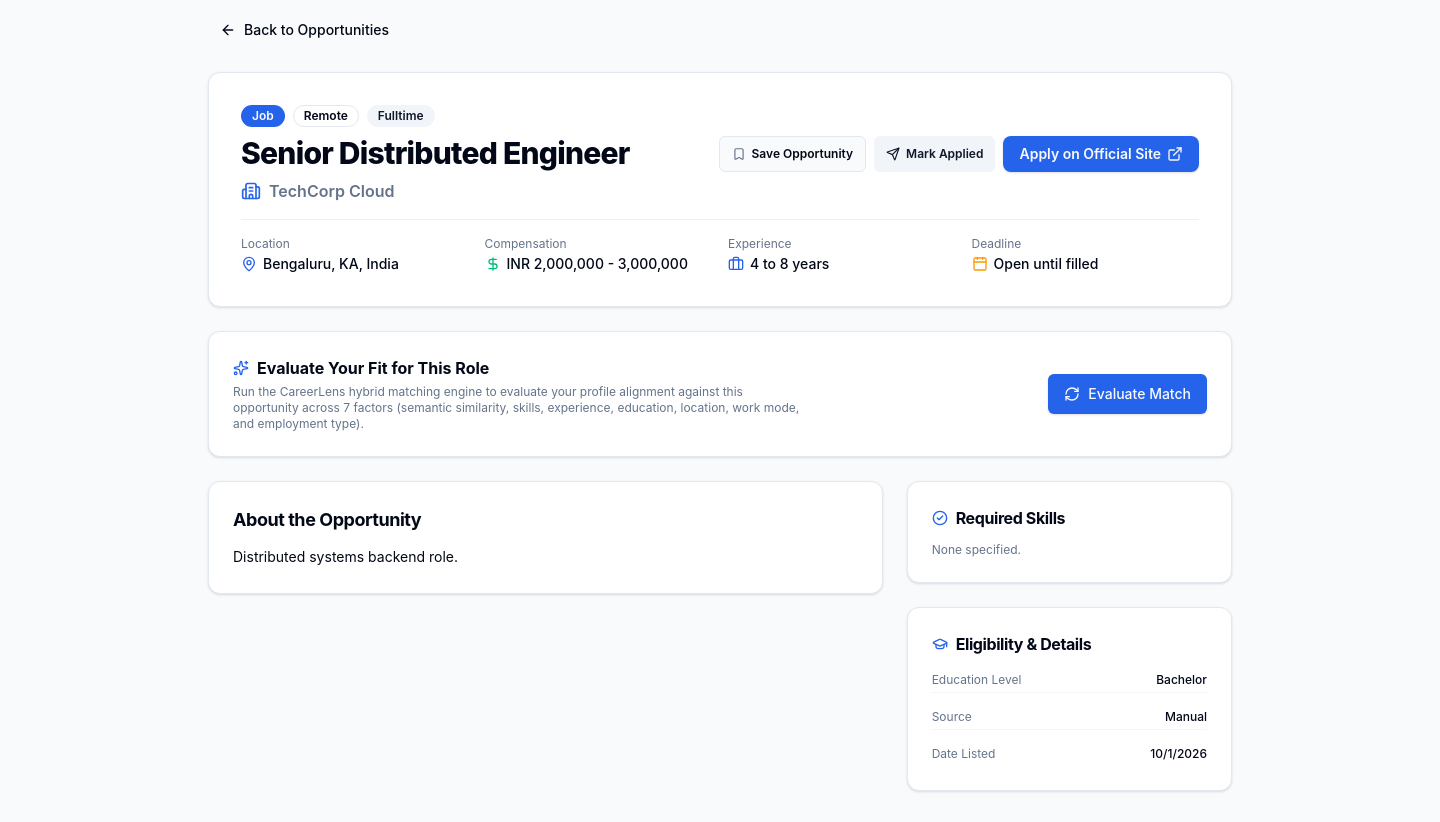
Test case: OpportunityDetailPage Tracking Integration › displays Save Opportunity button and saves application when clicked
This screenshot has width=1440, height=822.
Click the button "Save Opportunity" at (792, 154), box left=719, top=136, right=866, bottom=172
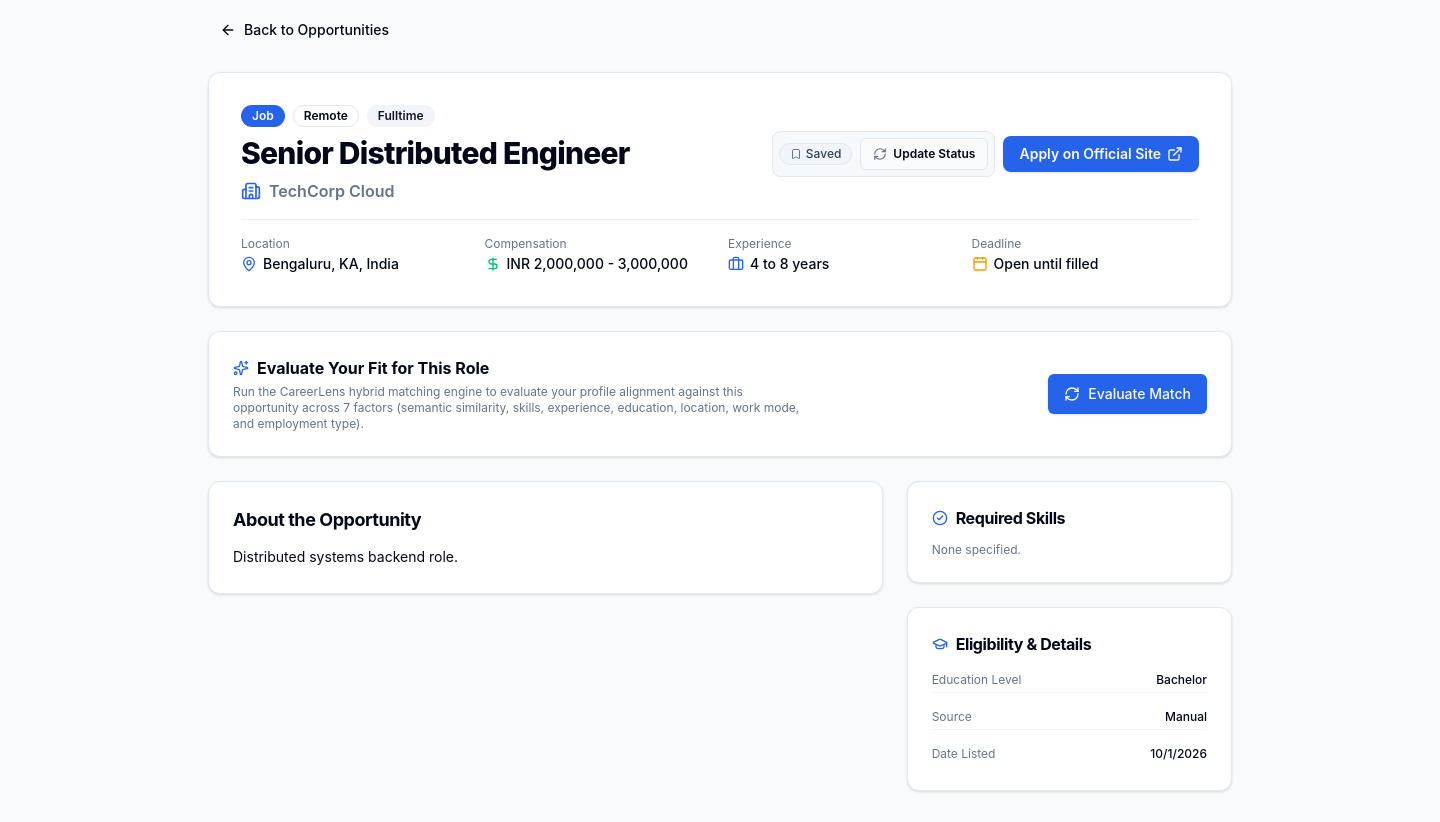
Check: the button "Update Status" is shown, box left=860, top=138, right=988, bottom=170
